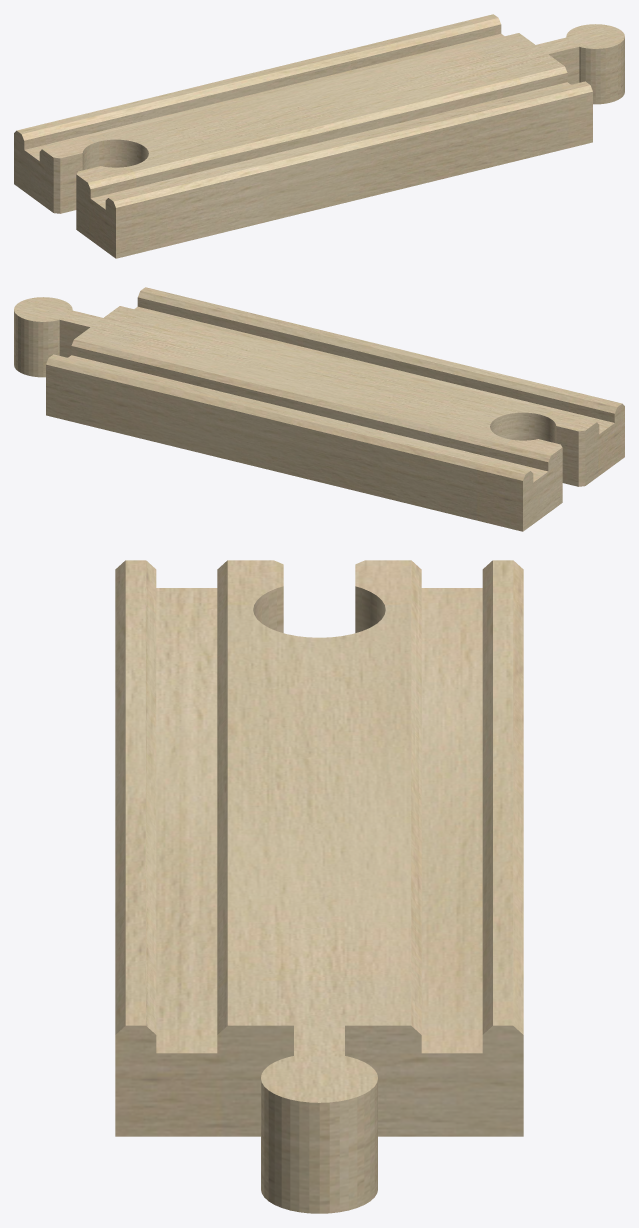
The picture shows the model from 3 angles, top to bottom: view 1: azimuth 30°, elevation 25°; view 2: azimuth 150°, elevation 25°; view 3: azimuth 270°, elevation 25°; orthographic projection. The views are drawn at different scales.
Parts seen in each view (by area): view 1: SketchUp; view 2: SketchUp; view 3: SketchUp.
Boxes of the visible parts, x1,y1,x2,y2 form: SketchUp: [14, 14, 624, 258]; SketchUp: [14, 287, 624, 531]; SketchUp: [115, 560, 523, 1213].
Size of the model in its own units: 4.96 by 1.57 by 0.4724.
